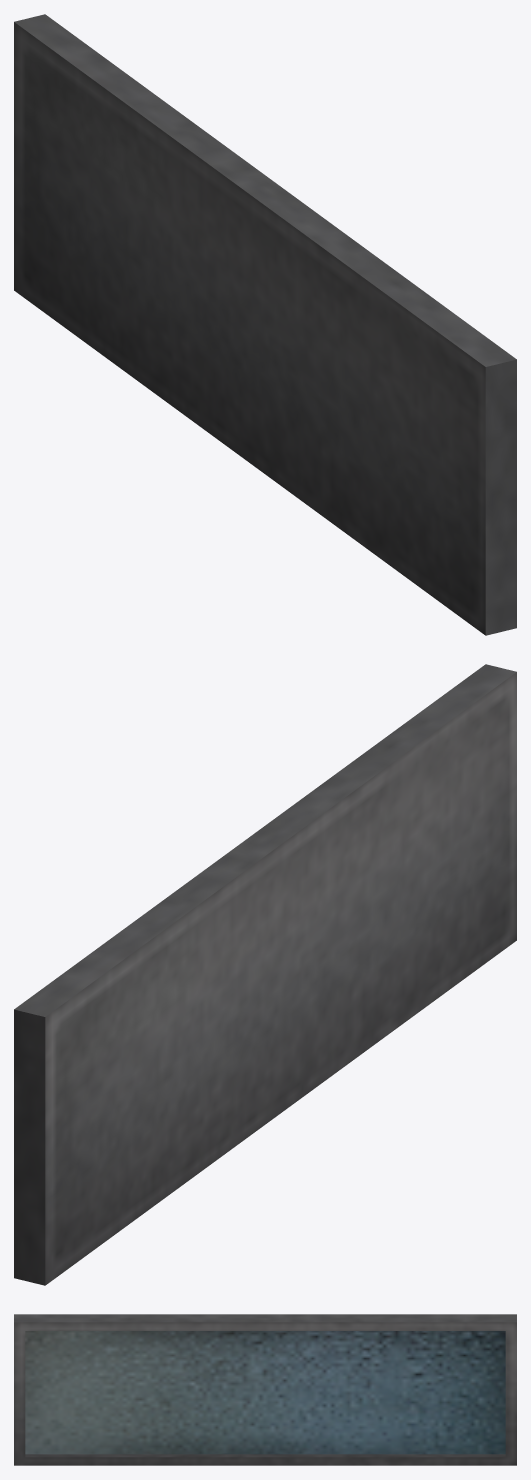
The model's file is Glass_Tol.fbx.
3 views of the same model, one above another, from view 1: azimuth 30°, elevation 25°; view 2: azimuth 150°, elevation 25°; view 3: azimuth 270°, elevation 25° (orthographic). The views are drawn at different scales.
Visible parts, largest first — view 1: Glass; view 2: Glass; view 3: Glass.
Boxes of the visible parts, bbox=[...] form: Glass: bbox=[14, 14, 516, 635]; Glass: bbox=[14, 664, 516, 1285]; Glass: bbox=[14, 1314, 516, 1465].
Size of the model in its own units: 0.3924 by 3.22 by 10.26.
Materials: 1 (1 with a texture image).
